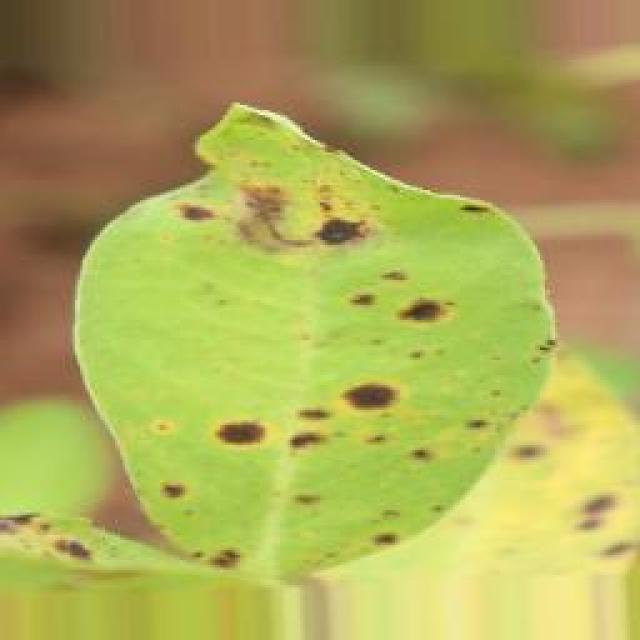Yellowish: (10, 100, 625, 573)
